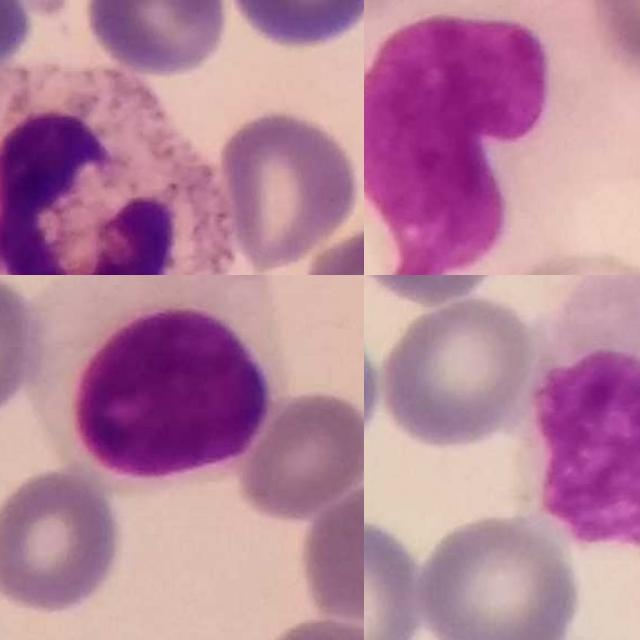Lymphocyte: (27, 275, 290, 496)
Monocyte: (364, 0, 640, 275), (529, 275, 640, 549)
Neutrophil: (0, 64, 232, 275)
